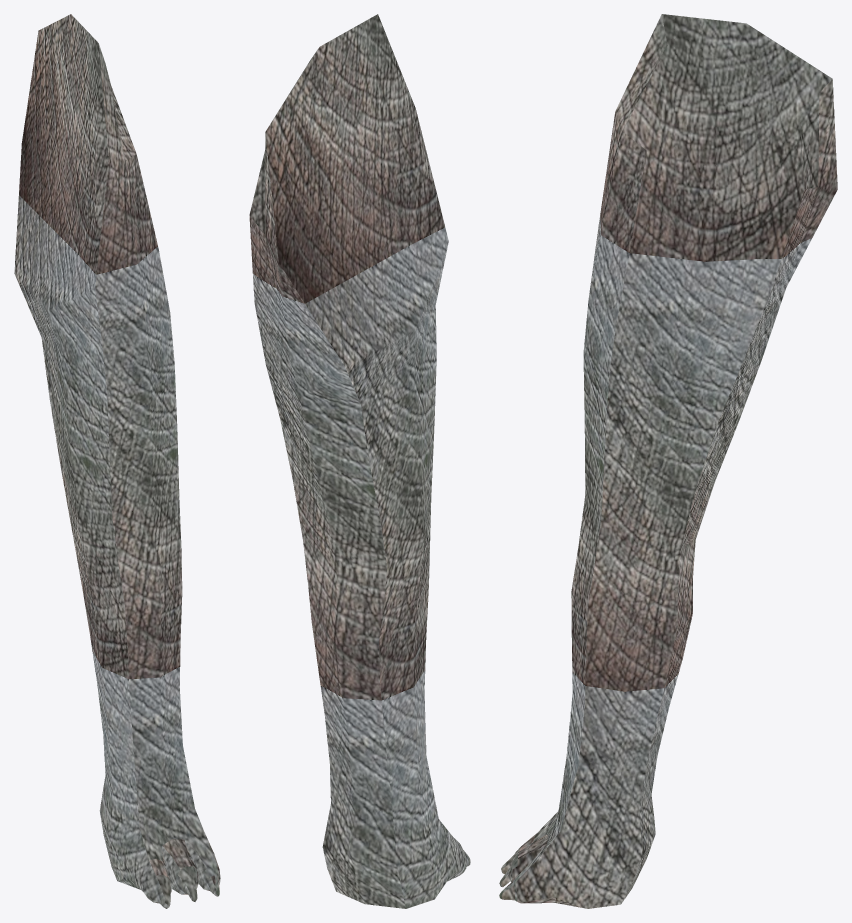
File: PiernaDI_JCA.obj
The picture shows the model from 3 angles, left to right: view 1: azimuth 30°, elevation 25°; view 2: azimuth 150°, elevation 25°; view 3: azimuth 270°, elevation 25°; orthographic projection. The views are drawn at different scales.
Parts seen in each view (by area): view 1: PiernaDI; view 2: PiernaDI; view 3: PiernaDI.
Boxes of the visible parts, box(x1,y1,x2,y2) form: PiernaDI: box(14, 14, 220, 908); PiernaDI: box(249, 14, 470, 908); PiernaDI: box(499, 14, 837, 908).
Size of the model in its own units: 0.439 by 3.05 by 1.08.
Materials: 1 (1 with a texture image).
